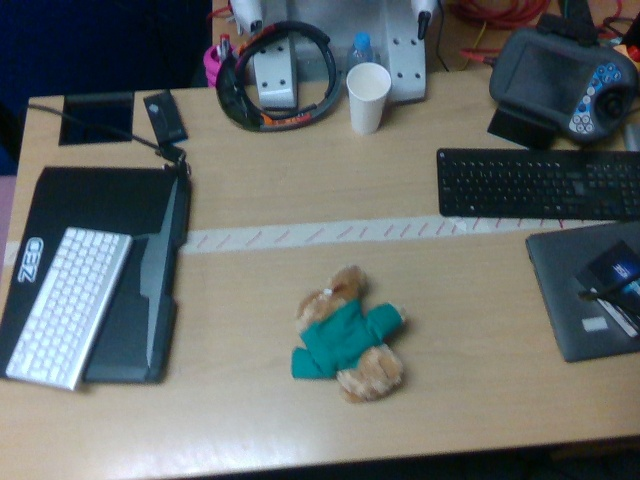teddy: (291, 265, 403, 402)
